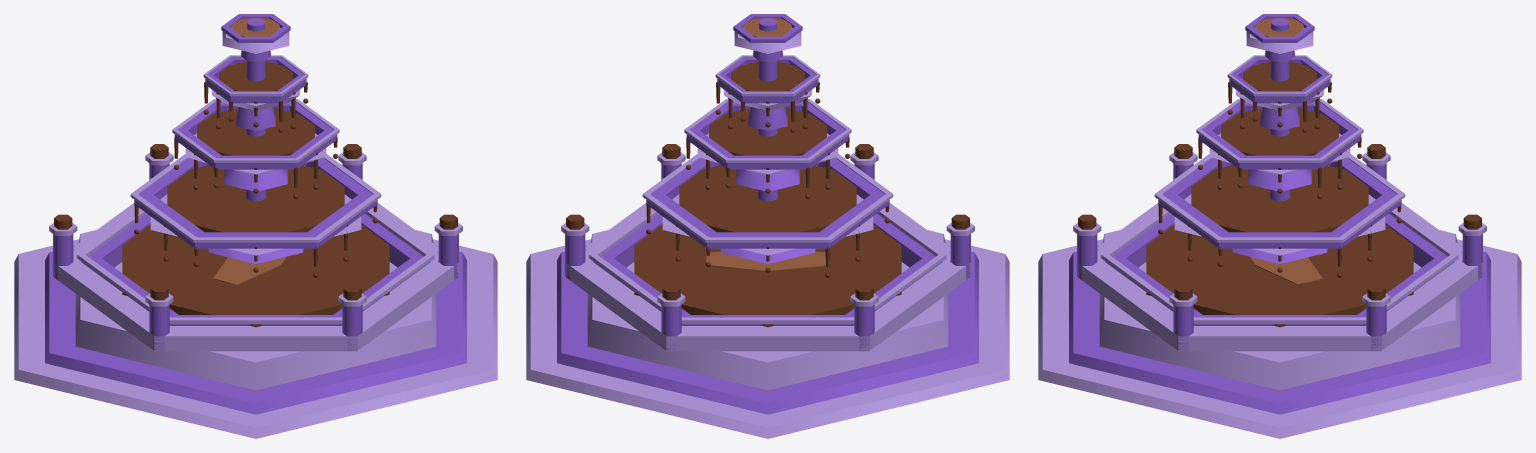
File: chocolate-fountain.glb
3 renders of one model, left to right at view 1: azimuth 30°, elevation 25°; view 2: azimuth 150°, elevation 25°; view 3: azimuth 270°, elevation 25°, orthographic.
Visible parts, largest first — view 1: step_2, basin_chocolate, step_1, basin_wall_outer, basin_floor, tier1_chocolate, tier1_rim, basin_rim, basin_lip, tier2_chocolate, tier2_rim, tier1_lip (+17 smaller); view 2: step_2, step_1, basin_chocolate, basin_wall_outer, basin_floor, tier1_chocolate, tier1_rim, basin_rim, basin_lip, tier2_chocolate, tier2_rim, tier1_lip (+17 smaller); view 3: step_2, basin_chocolate, step_1, basin_wall_outer, basin_floor, tier1_chocolate, tier1_rim, basin_rim, basin_lip, tier2_chocolate, tier2_rim, tier1_lip (+17 smaller).
Part boxes in pixels (box(x1,y1,x2,y2)): step_2: box(14, 239, 497, 438); basin_chocolate: box(122, 225, 389, 327); step_1: box(45, 246, 466, 414); basin_wall_outer: box(53, 203, 458, 351); basin_floor: box(75, 230, 436, 390); tier1_chocolate: box(167, 165, 344, 232); tier1_rim: box(134, 158, 377, 248); basin_rim: box(81, 213, 430, 325); basin_lip: box(77, 208, 434, 323); tier2_chocolate: box(197, 108, 314, 155); tier2_rim: box(174, 101, 337, 169); tier1_lip: box(130, 154, 381, 242); step_2: box(526, 239, 1009, 438); step_1: box(557, 246, 978, 414); basin_chocolate: box(634, 225, 901, 327); basin_wall_outer: box(565, 203, 970, 351); basin_floor: box(587, 230, 948, 390); tier1_chocolate: box(679, 165, 856, 232); tier1_rim: box(646, 158, 889, 248); basin_rim: box(593, 213, 942, 325); basin_lip: box(589, 208, 946, 323); tier2_chocolate: box(709, 108, 826, 155); tier2_rim: box(686, 101, 849, 169); tier1_lip: box(642, 154, 893, 242); step_2: box(1038, 239, 1521, 438); basin_chocolate: box(1146, 225, 1413, 327); step_1: box(1069, 246, 1490, 414); basin_wall_outer: box(1077, 203, 1482, 351); basin_floor: box(1099, 230, 1460, 390); tier1_chocolate: box(1191, 165, 1368, 232); tier1_rim: box(1158, 158, 1401, 248); basin_rim: box(1105, 213, 1454, 325); basin_lip: box(1101, 208, 1458, 323); tier2_chocolate: box(1221, 108, 1338, 155); tier2_rim: box(1198, 101, 1361, 169); tier1_lip: box(1154, 154, 1405, 242).
Size of the model in its own units: 5.5 by 3.25 by 4.76.
